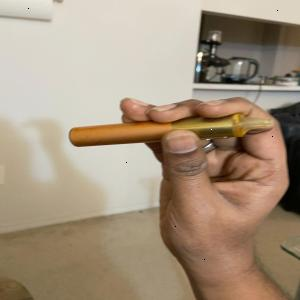Golden-E-Ciggirate: (68, 110, 277, 150)
